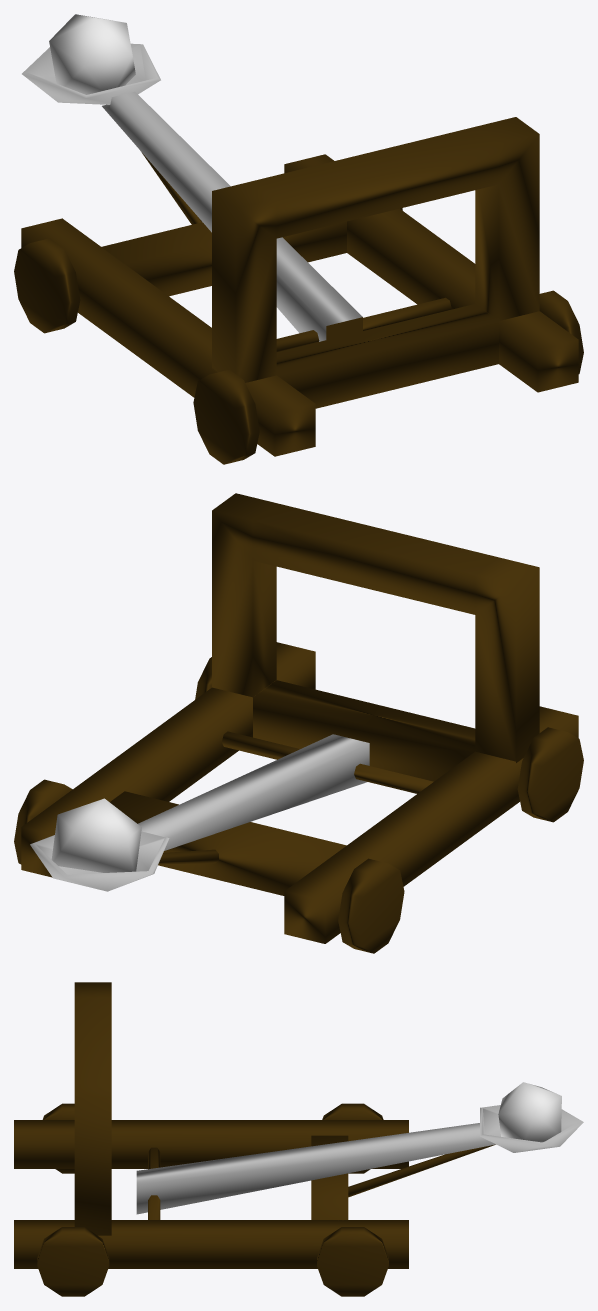
The model's file is catapult.fbx.
3 renders of one model, top to bottom at view 1: azimuth 30°, elevation 25°; view 2: azimuth 150°, elevation 25°; view 3: azimuth 270°, elevation 25°, orthographic. The views are drawn at different scales.
Visible parts, largest first — view 1: Catapult, Catapult_arm, Cata_ammo; view 2: Catapult, Catapult_arm, Cata_ammo; view 3: Catapult, Catapult_arm, Cata_ammo.
Boxes of the visible parts, bbox=[...] form: Catapult: bbox=[14, 117, 583, 464]; Catapult_arm: bbox=[22, 43, 362, 341]; Cata_ammo: bbox=[49, 14, 135, 94]; Catapult: bbox=[14, 493, 583, 953]; Catapult_arm: bbox=[30, 734, 369, 891]; Cata_ammo: bbox=[51, 798, 141, 872]; Catapult: bbox=[14, 982, 495, 1296]; Catapult_arm: bbox=[136, 1105, 583, 1214]; Cata_ammo: bbox=[498, 1082, 561, 1142].
Bounding box in the file's own units: 1.36 × 0.927 × 2.5.
